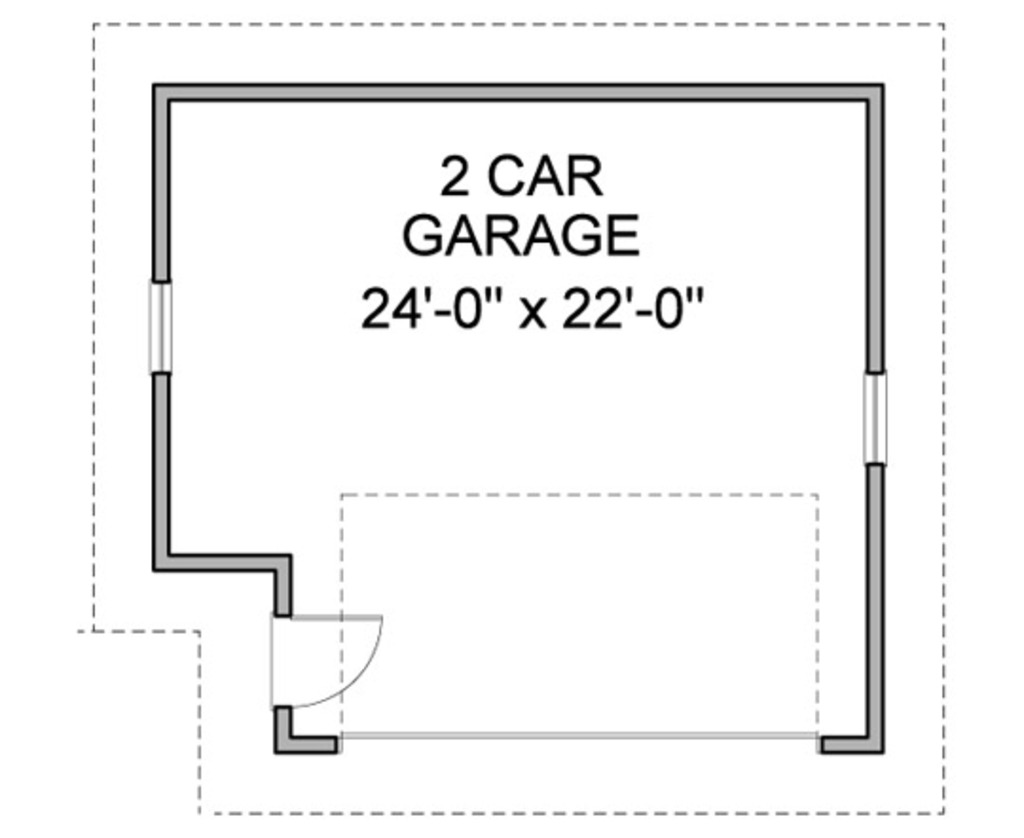door: (265, 603, 395, 715)
window: (140, 280, 178, 372), (861, 375, 892, 463)
